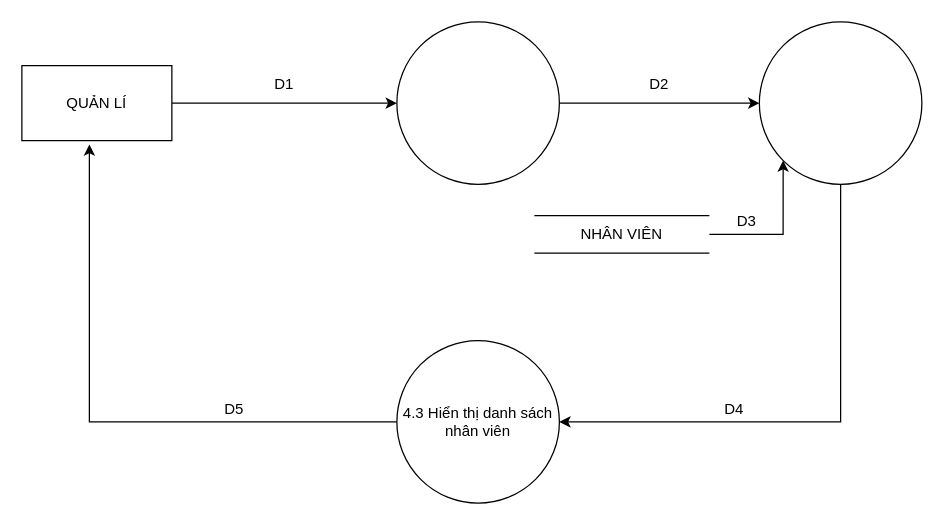
Some shapes in this 944 by 525 pixel diagram are drawn without their labels. Here are the shapes that lost their labels. From the top down, the box of each, then its label:
(396, 21, 559, 184): 4.1 Nhập thông tin nhân viên cần tra cứu
(758, 21, 922, 184): 4.2 Xử lý tra cứu nhân viên
